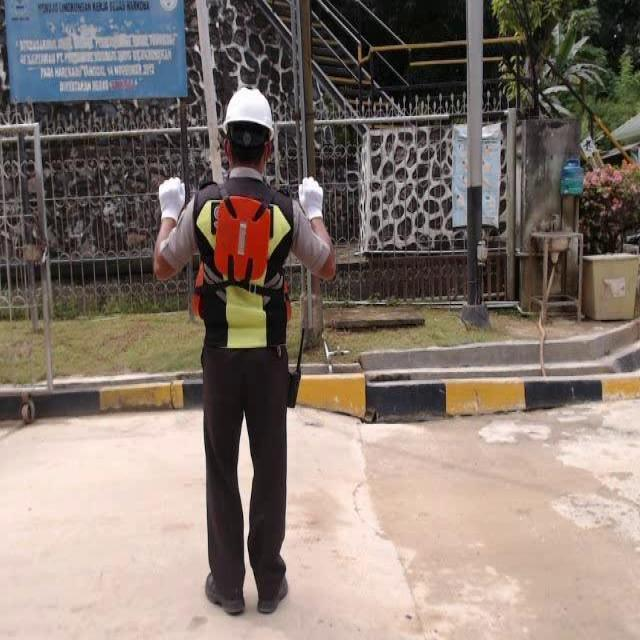Vest: (215, 189, 274, 284)
